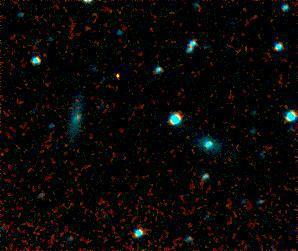star: (105, 61, 135, 91)
